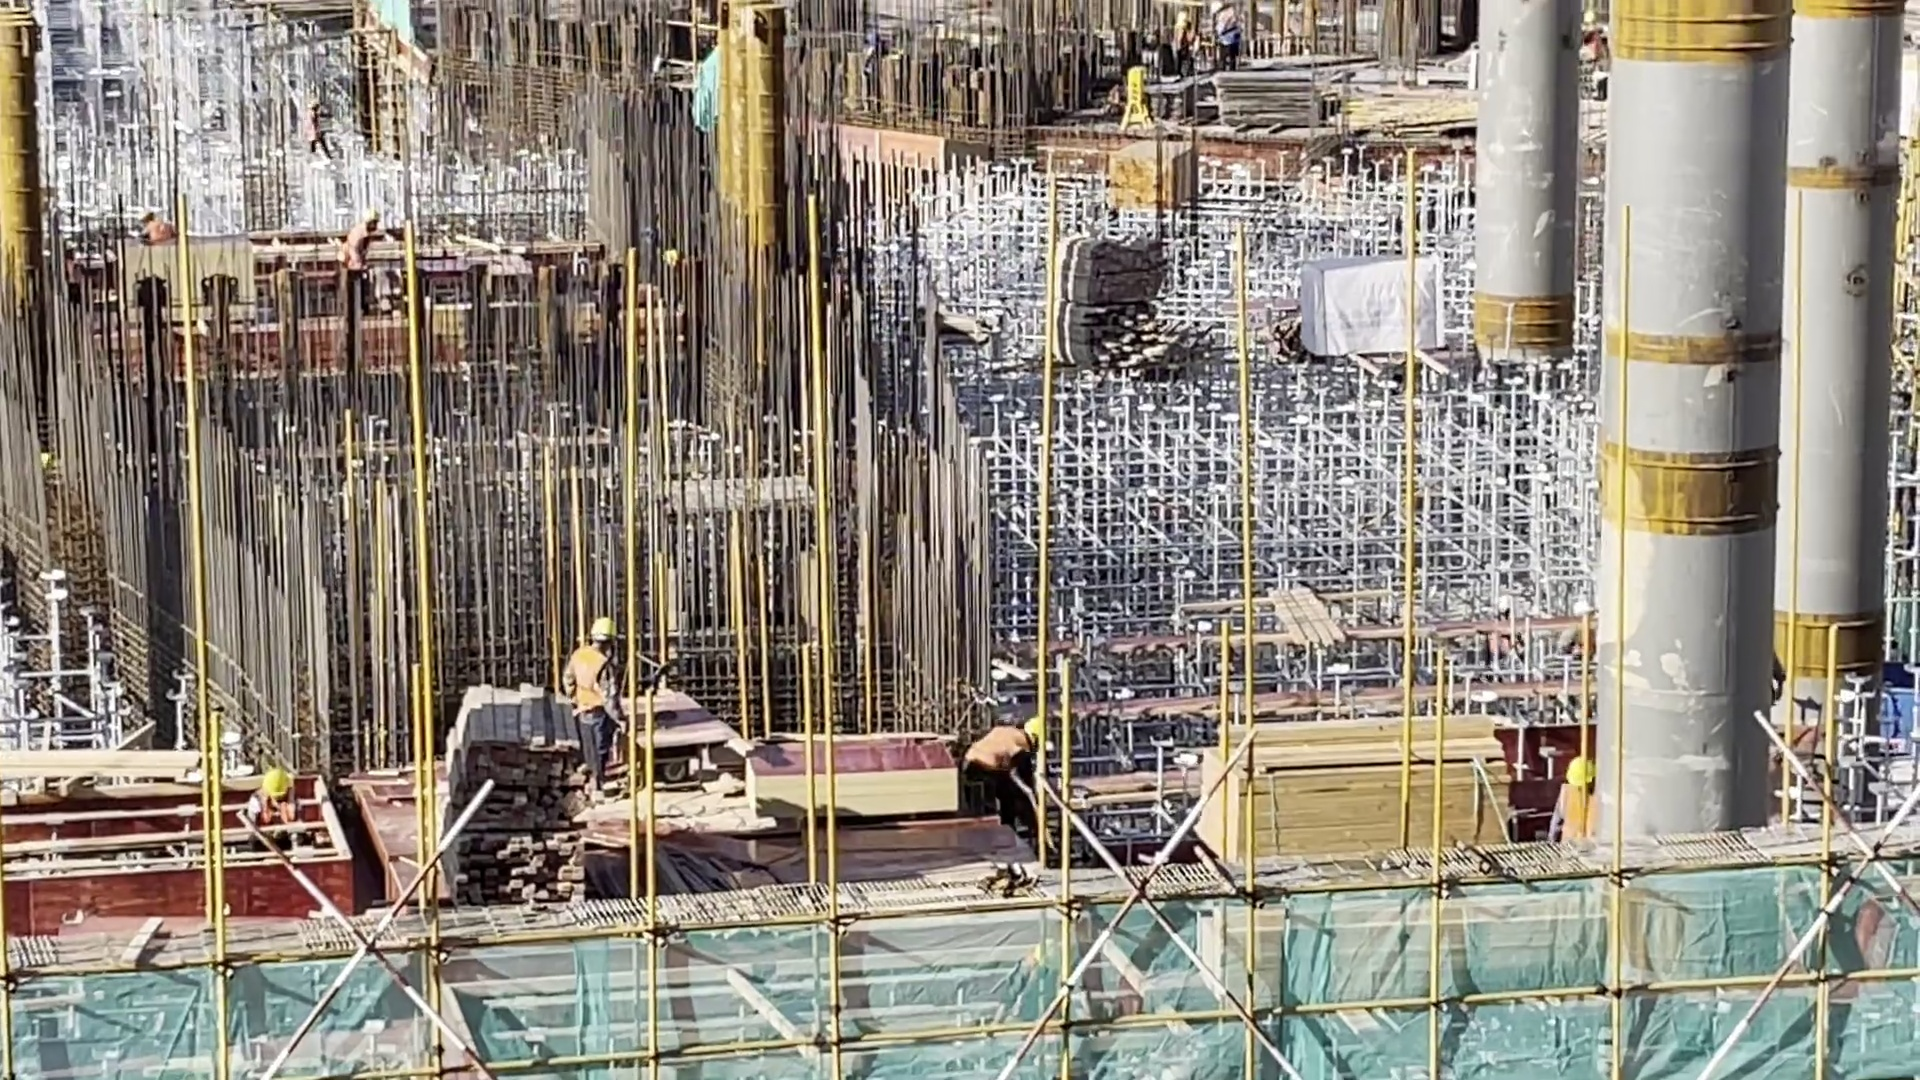helmet: (1563, 752, 1599, 794), (256, 768, 295, 800), (580, 613, 617, 643), (1022, 715, 1049, 746)
person: (552, 608, 636, 795), (947, 704, 1054, 826), (1543, 749, 1600, 852), (243, 768, 311, 841)
vest: (965, 713, 1032, 777), (567, 639, 612, 722), (1557, 786, 1600, 844)
